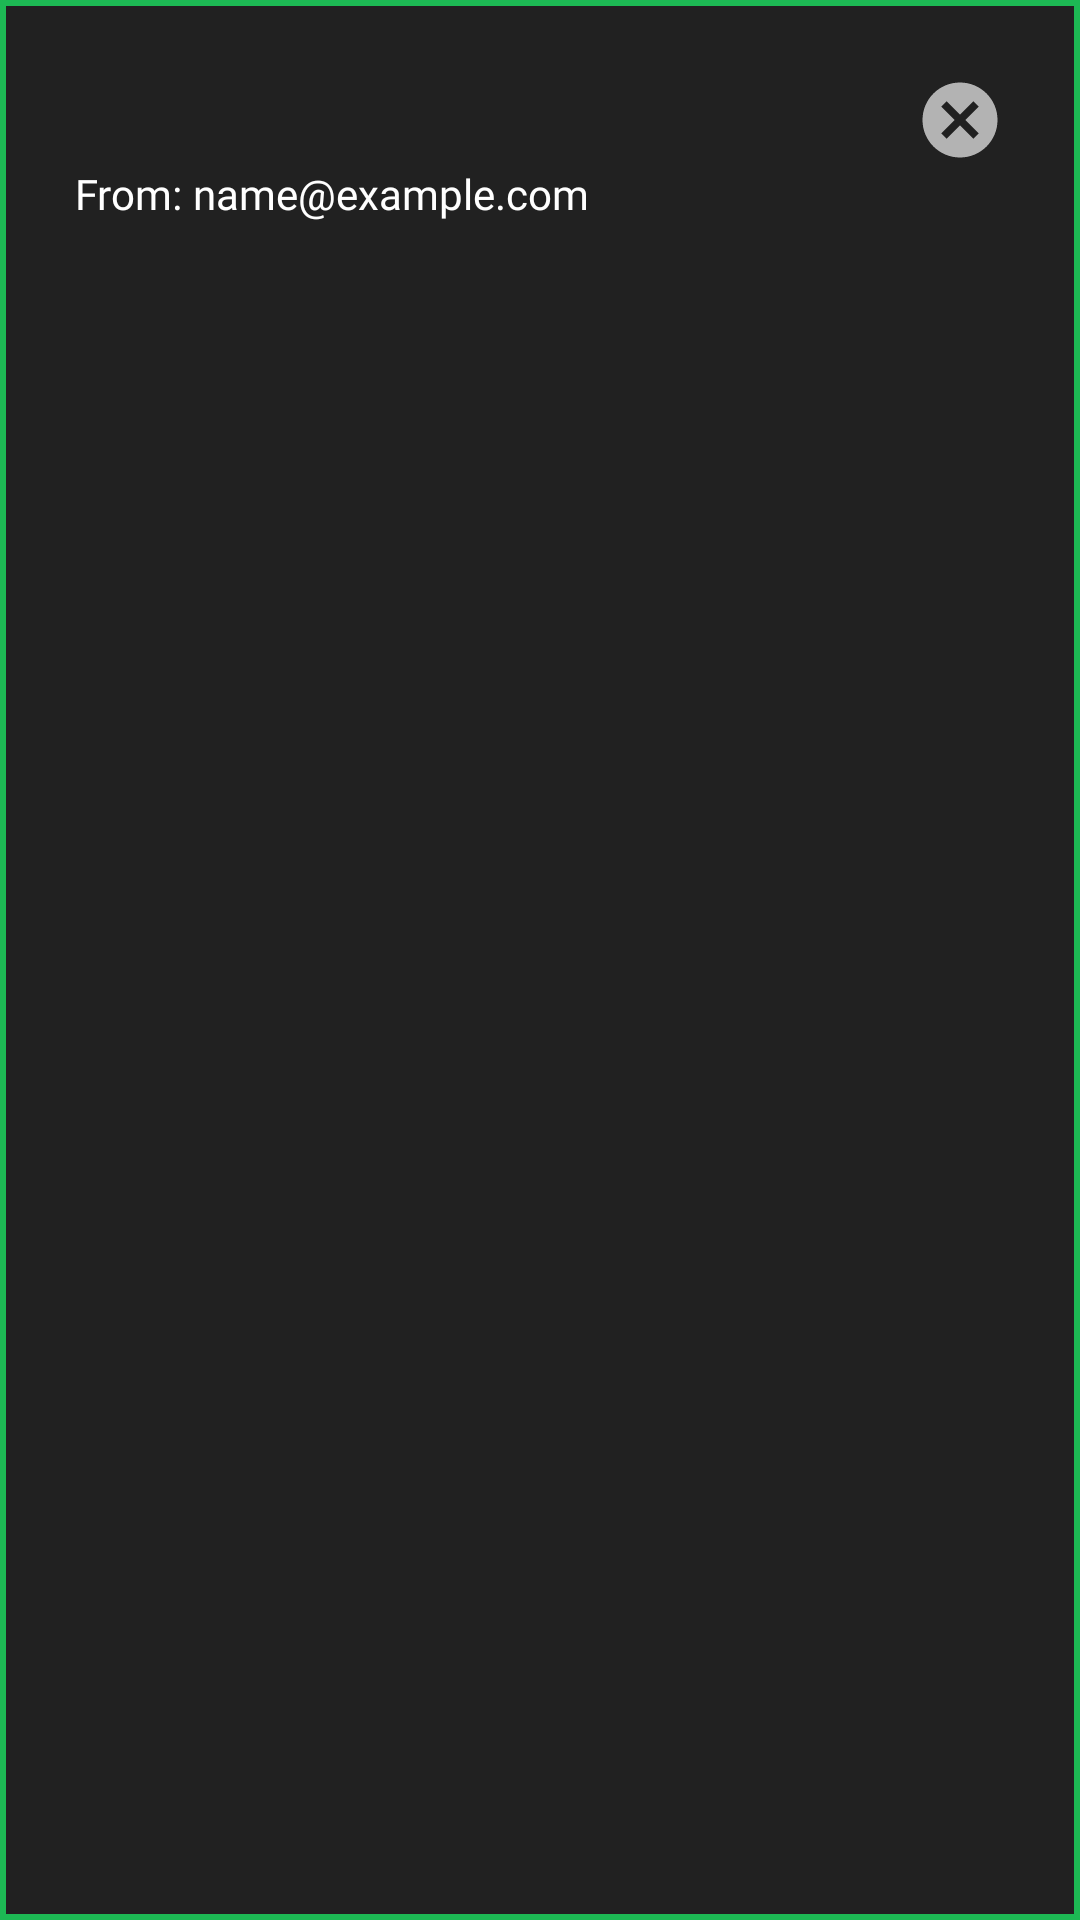

Named icons in this screenshot (1080px x 1920px) and their bounding boxes, {"left": x1, "top": y1, "right": x2, "bottom": y2}:
cancel: {"left": 922, "top": 82, "right": 998, "bottom": 158}
